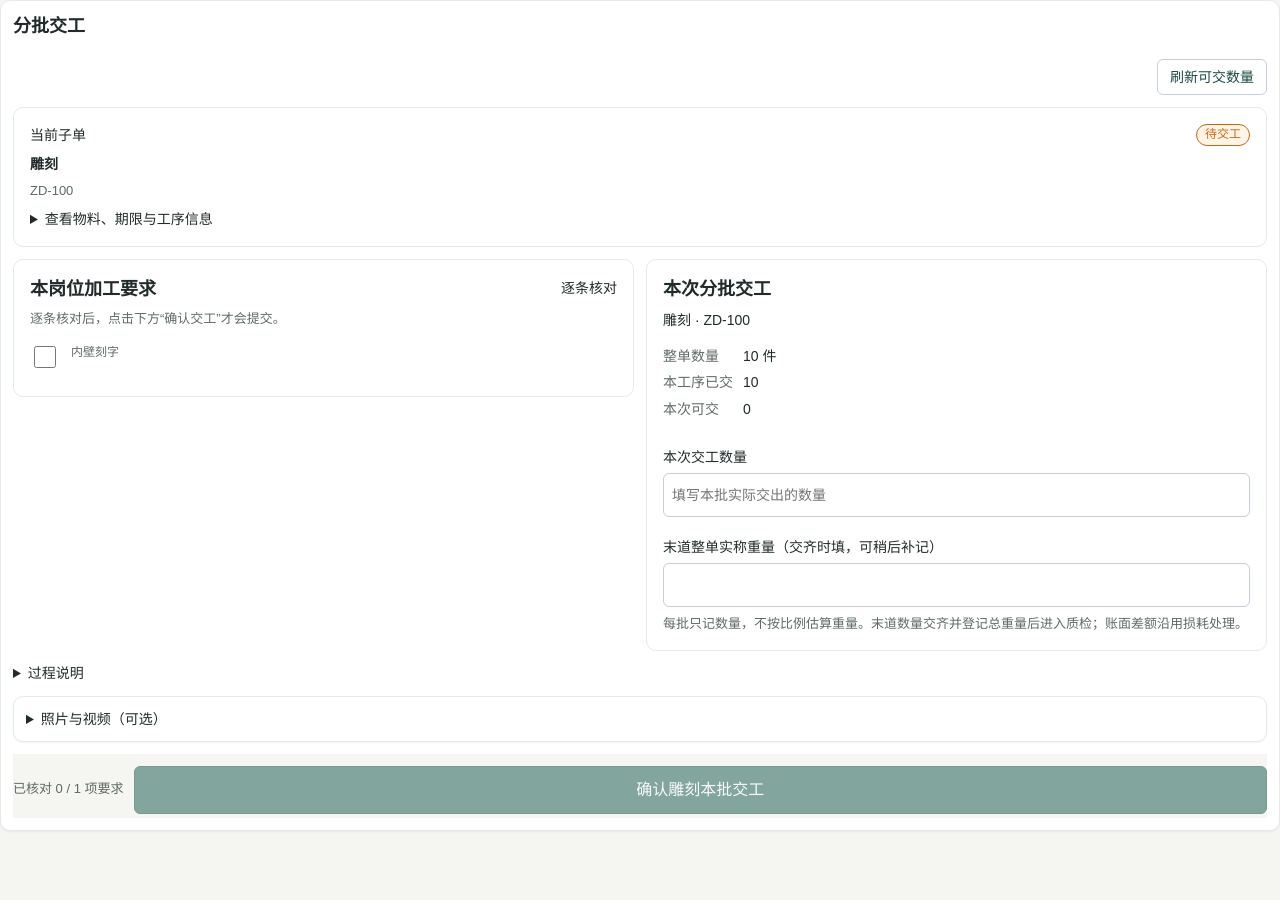
生产面板 › 末道数量交齐后可以只补记重量，提交期间保留原数量重量请求
Click the checkbox named "核对 1 内壁刻字".
click(45, 358)  # box [34, 346, 56, 368]
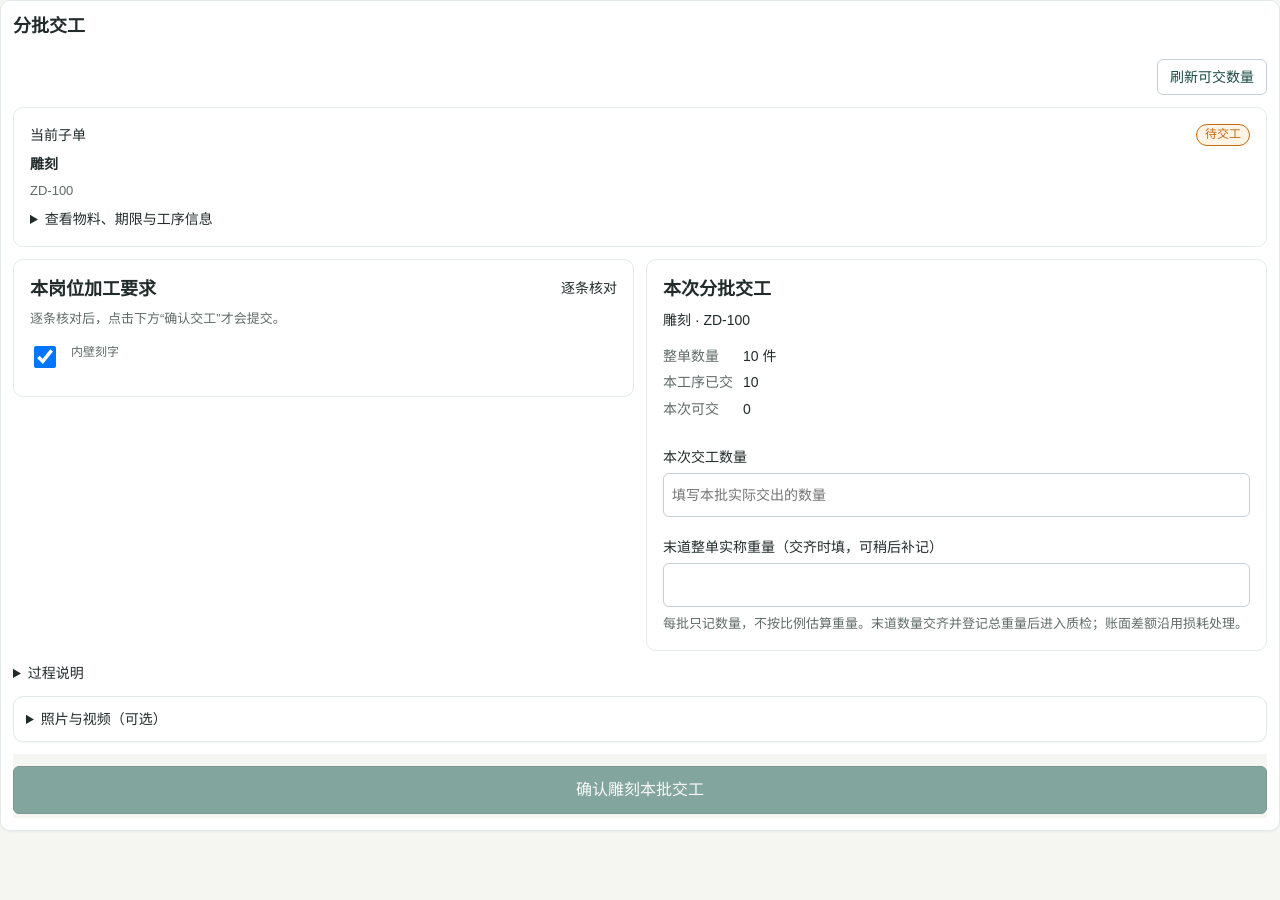
Type "0" into the field named "本次交工数量".
click(956, 495); type("0")  # box [663, 473, 1250, 517]
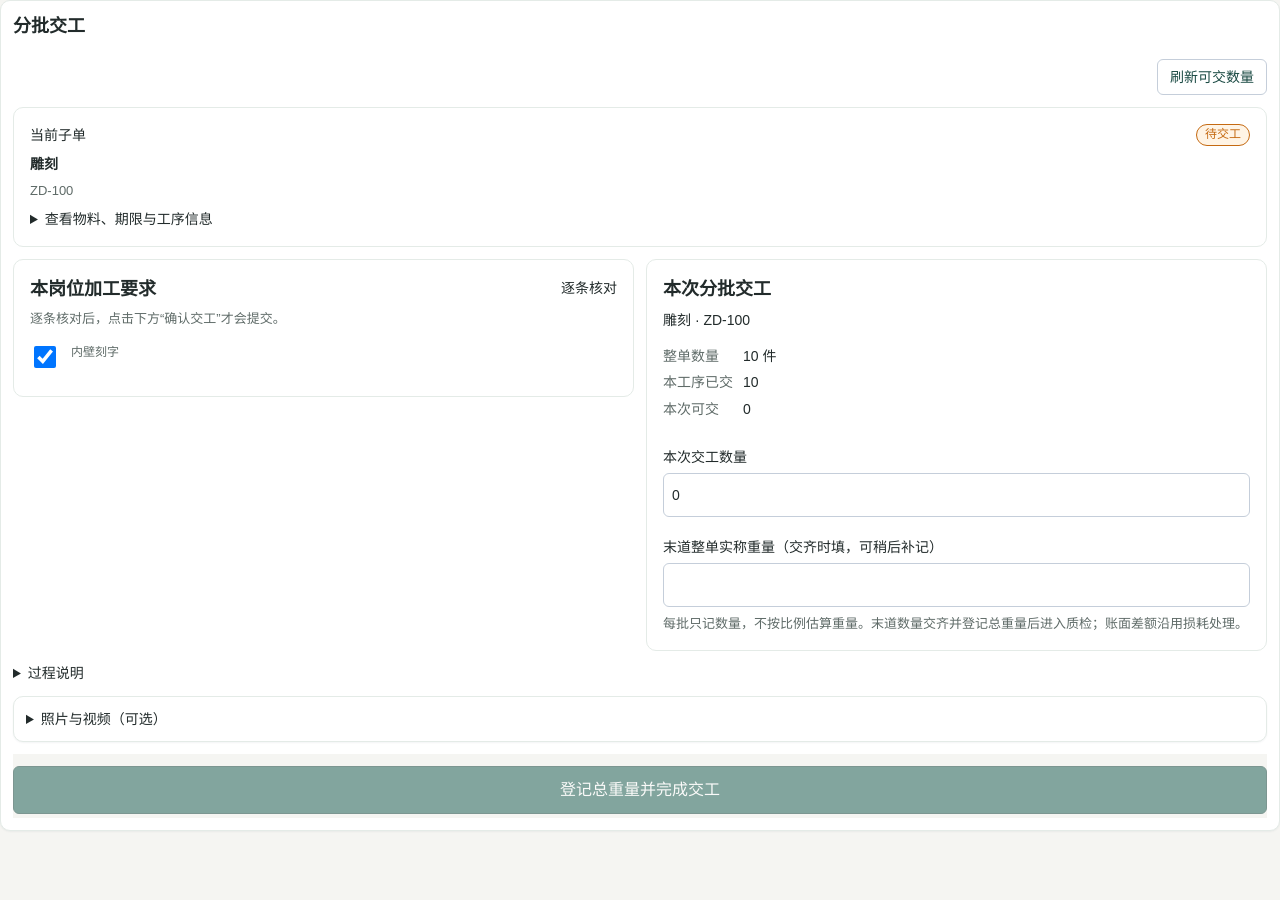
Expected: the button with aria-label "确认雕刻交工" is disabled, [13, 766, 1267, 814]
Type "12.3" into the field named "末道总重量".
click(956, 585); type("12.3")  # box [663, 563, 1250, 607]
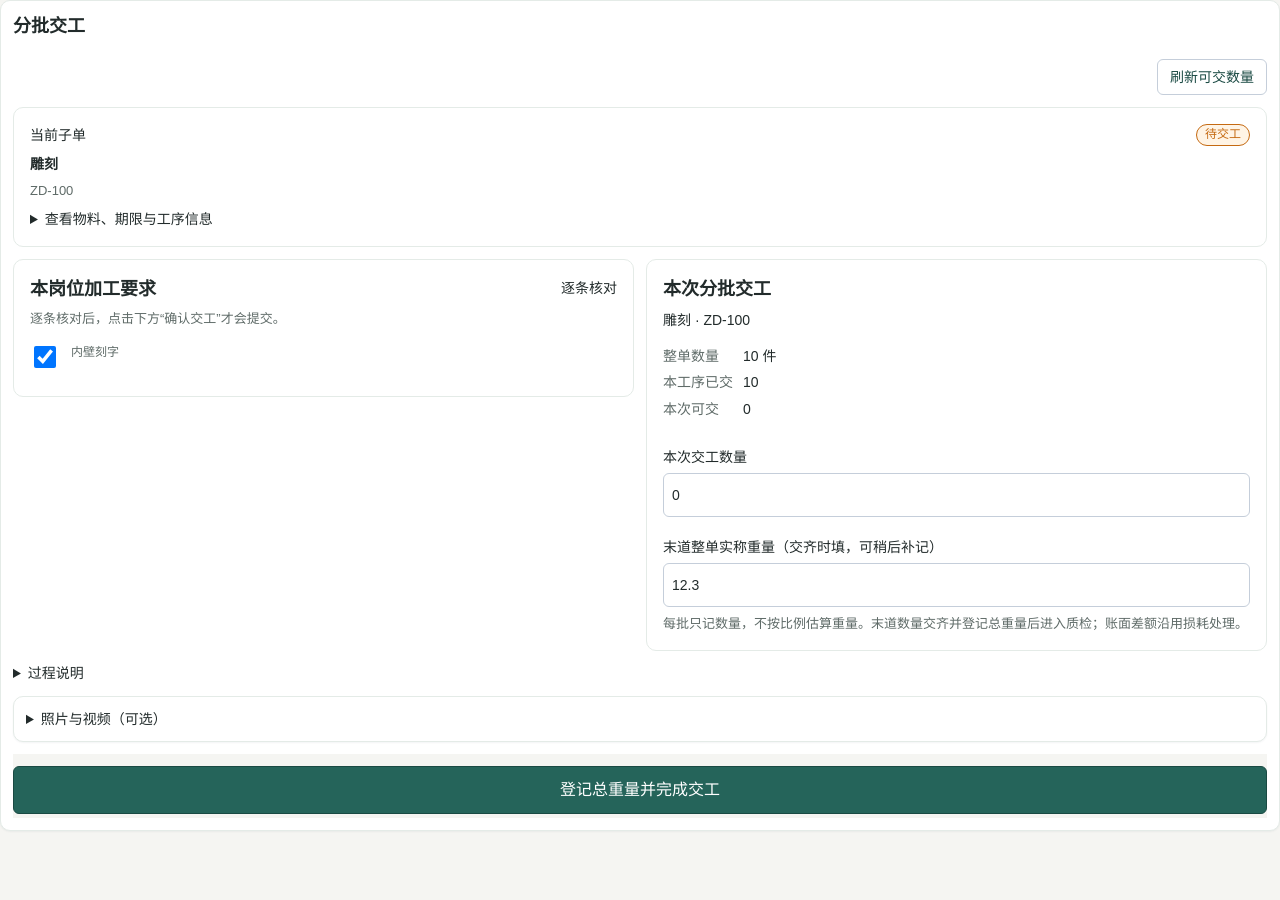
Click the button with aria-label "确认雕刻交工".
click(640, 790)  # box [13, 766, 1267, 814]
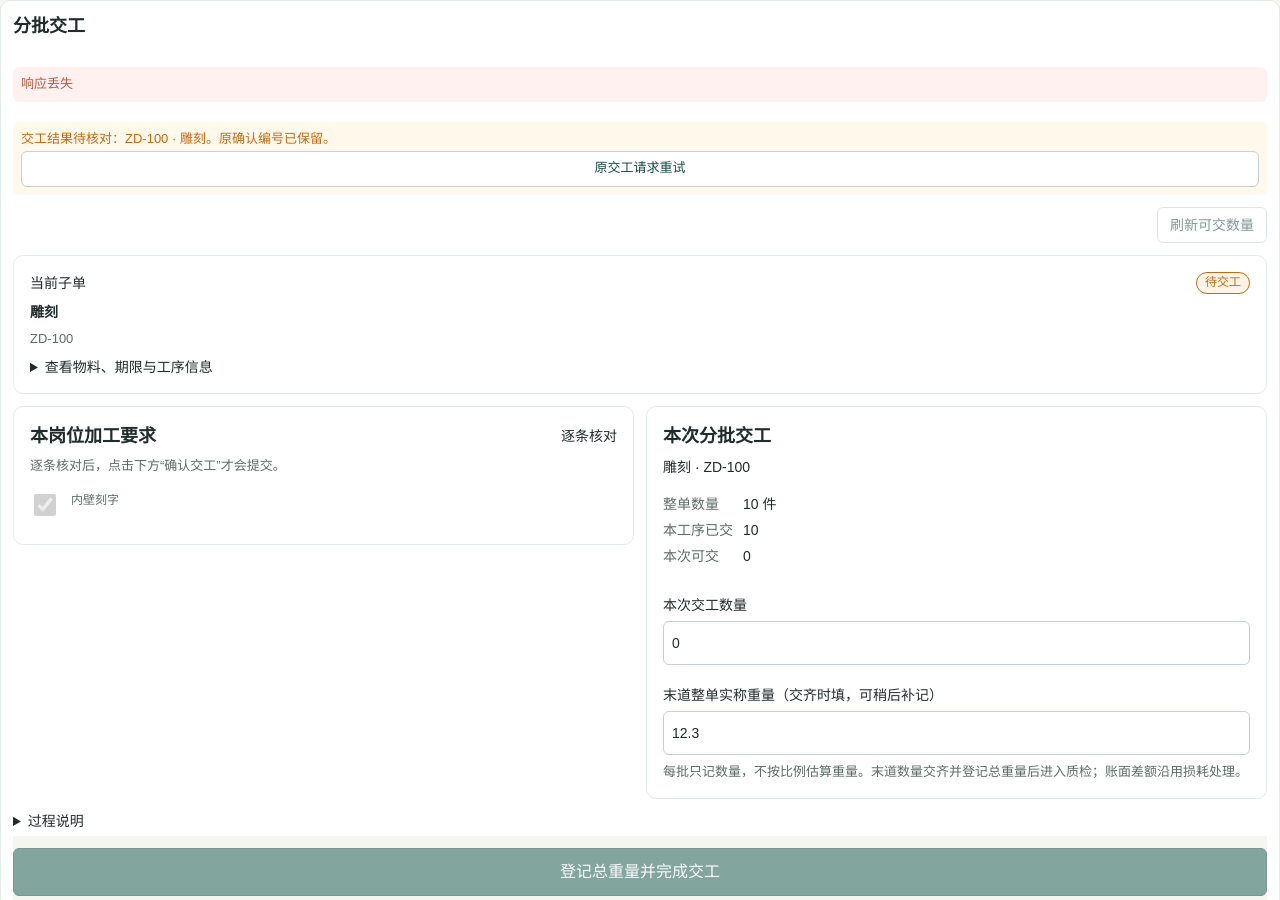
Result: the field named "末道总重量" is disabled at [663, 711, 1250, 755]
Click the button "原交工请求重试".
click(640, 169)  # box [21, 151, 1259, 187]
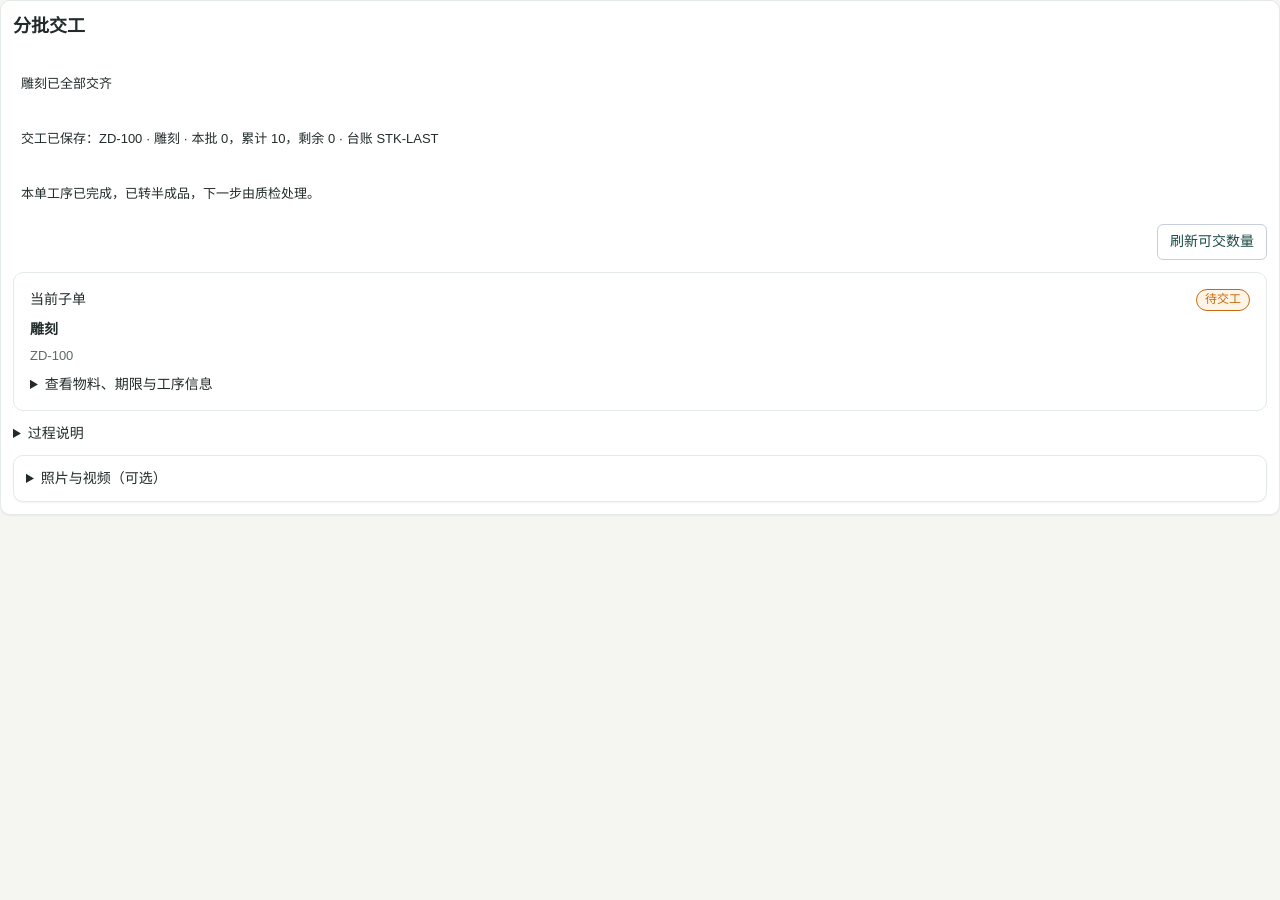
Result: the text "下一步由质检处理" is shown at [21, 186, 320, 201]
